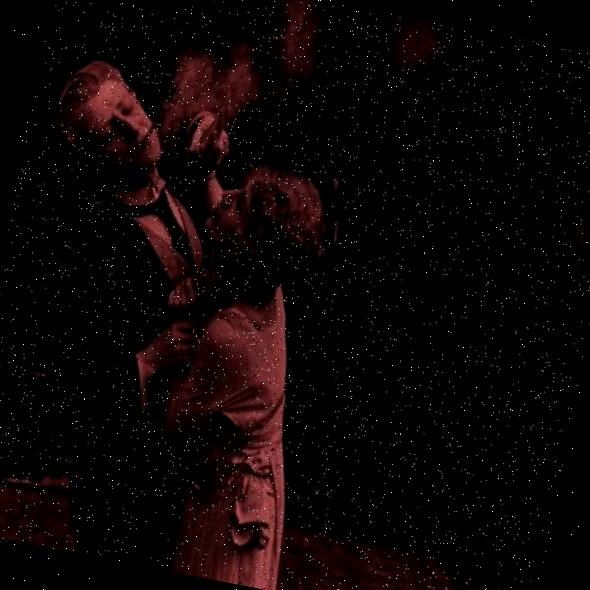smoke: (148, 33, 259, 146)
